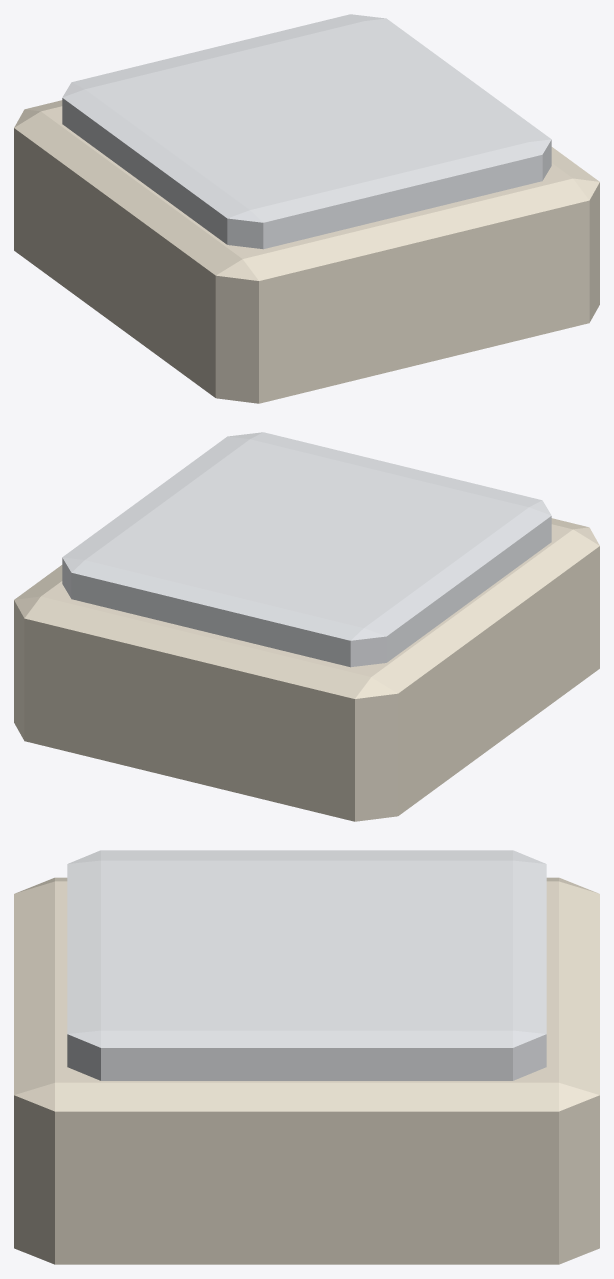
File: b17_compact_binoculars.glb
3 views of the same model, one above another, from view 1: azimuth 30°, elevation 25°; view 2: azimuth 150°, elevation 25°; view 3: azimuth 270°, elevation 25° (orthographic). The views are drawn at different scales.
Parts seen in each view (by area): view 1: b17_compact_binoculars; view 2: b17_compact_binoculars; view 3: b17_compact_binoculars.
Boxes of the visible parts, box(x1,y1,x2,y2) form: b17_compact_binoculars: box(14, 14, 599, 403); b17_compact_binoculars: box(14, 432, 599, 821); b17_compact_binoculars: box(14, 850, 599, 1264).
Bounding box in the file's own units: 0.138 × 0.059 × 0.146.
